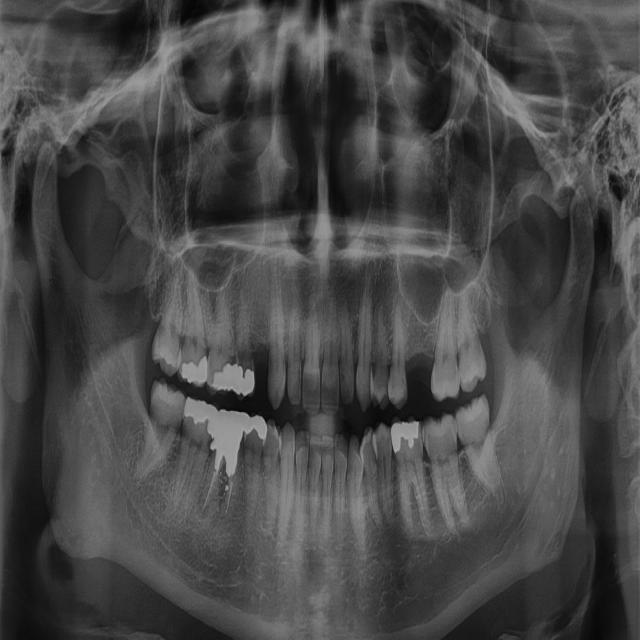Caries: (229, 348, 235, 364), (401, 369, 406, 388), (340, 368, 345, 384), (206, 436, 210, 450)
Filling: (210, 410, 246, 476), (183, 396, 218, 437), (391, 421, 419, 453), (181, 355, 207, 386), (232, 364, 254, 396), (214, 361, 236, 391), (244, 415, 267, 437)
Missing teeth: (411, 377, 428, 396), (250, 364, 270, 377)
